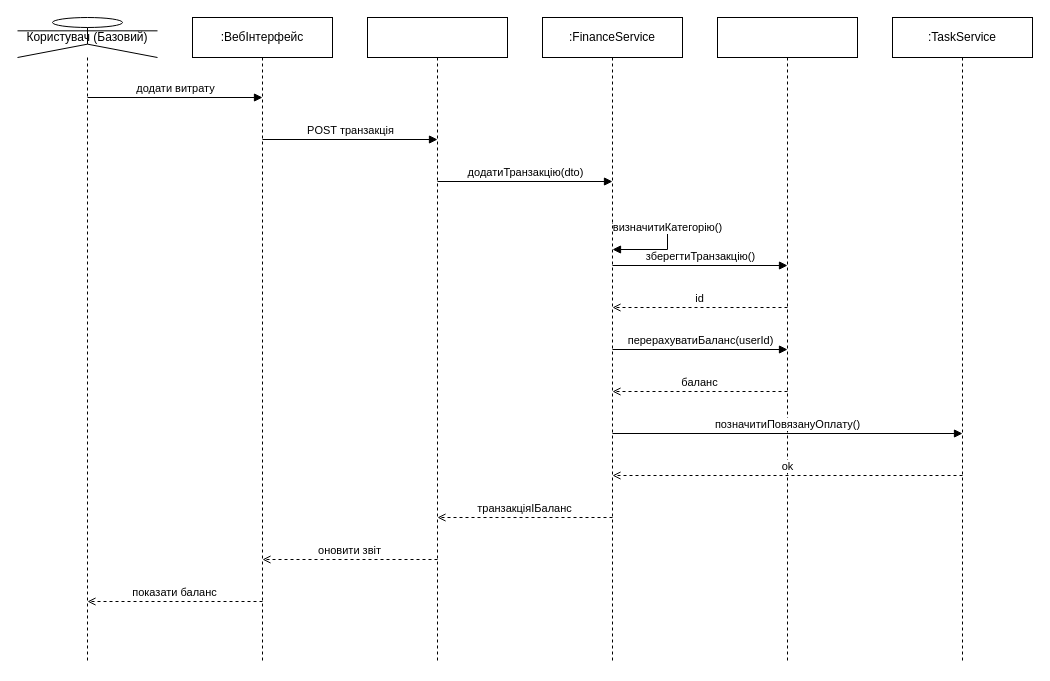
The diagram is 1050 pixels wide and 681 high, and some of its shapes have lost their labels. Each missing label, with the box of its shape:
:AppDbContext: (716, 16, 858, 664)
:FinanceController: (366, 16, 508, 664)
